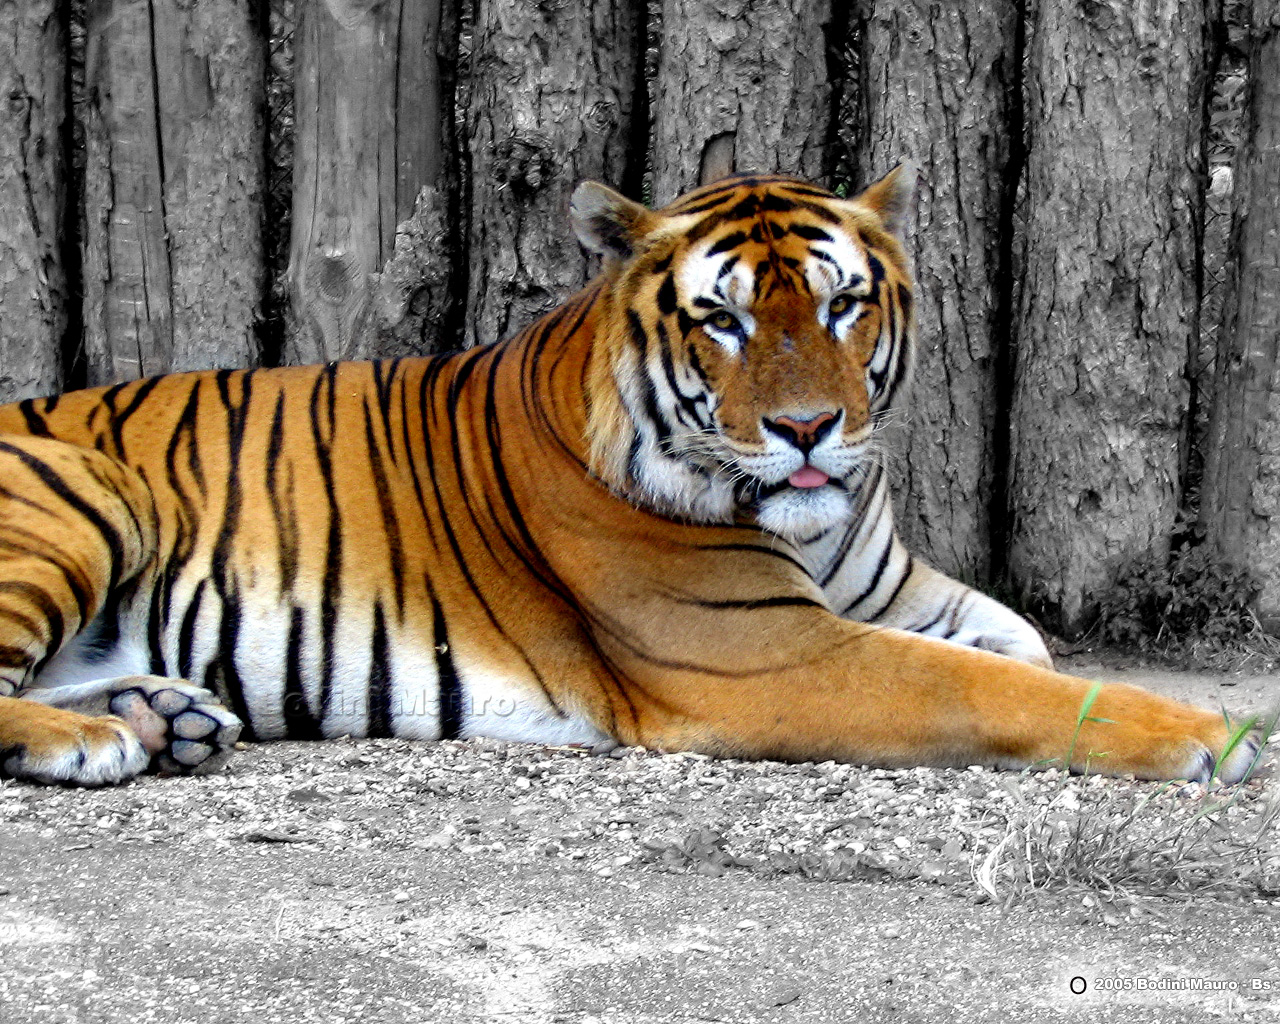Tigre: (52, 237, 1212, 809)
